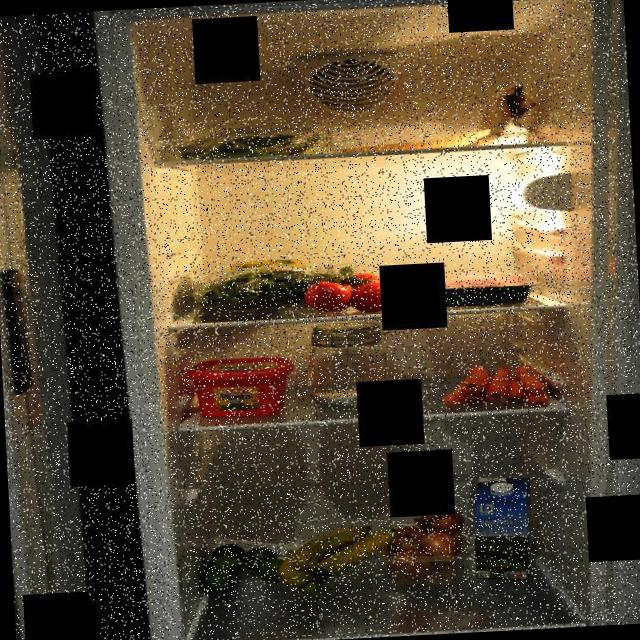Carne vacuno: (418, 268, 546, 310)
Cebolla: (378, 506, 468, 588)
Leche: (471, 473, 538, 584)
Mantequilla: (185, 352, 298, 420)
Plátano: (276, 522, 412, 600)
Tomate: (307, 267, 425, 314)
Zanahoria: (440, 358, 556, 414)
flour: (301, 319, 398, 412), (468, 76, 550, 150)
green_beans: (176, 116, 336, 166)
spinach: (190, 254, 348, 317)
